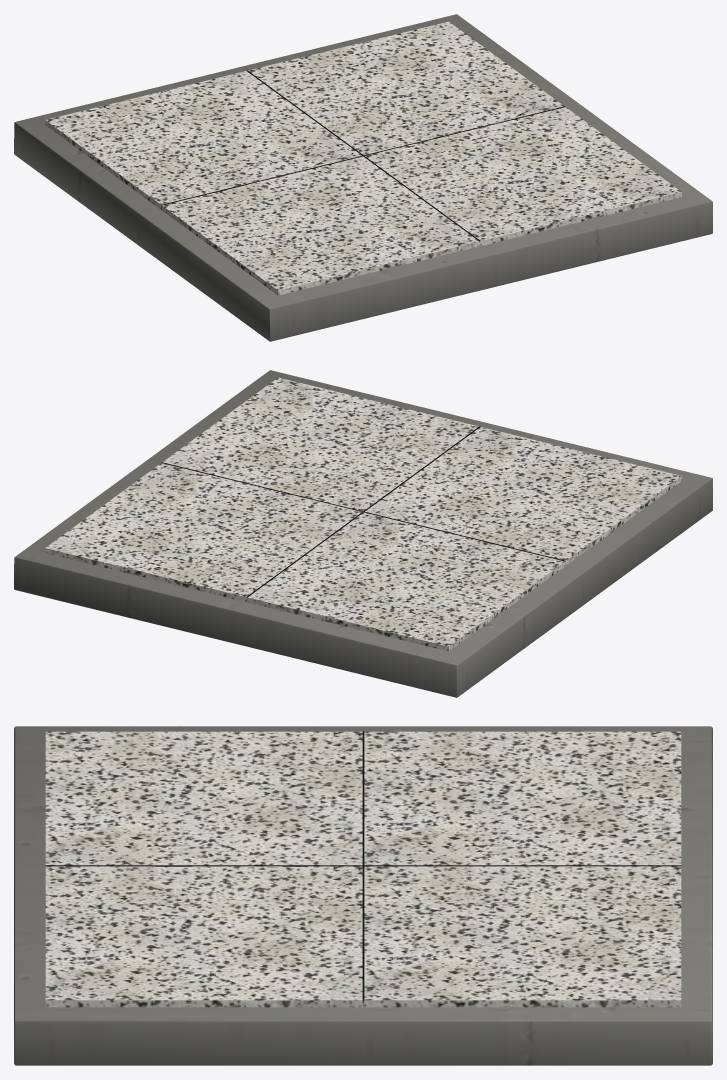
Rendered from PIS-OUT-001_lod1.glb.
3 views of the same model, one above another, from view 1: azimuth 30°, elevation 25°; view 2: azimuth 150°, elevation 25°; view 3: azimuth 270°, elevation 25° (orthographic). The views are drawn at different scales.
Visible parts, largest first — view 1: PIS-OUT-001_granilite, PIS-OUT-001_laje, PIS-OUT-001_juntaX; view 2: PIS-OUT-001_granilite, PIS-OUT-001_laje, PIS-OUT-001_juntaX; view 3: PIS-OUT-001_granilite, PIS-OUT-001_laje, PIS-OUT-001_juntaY, PIS-OUT-001_juntaX.
Part boxes in pixels (x1,y1,x2,y2): PIS-OUT-001_granilite: [45, 21, 681, 295]; PIS-OUT-001_laje: [14, 14, 712, 341]; PIS-OUT-001_juntaX: [161, 106, 565, 209]; PIS-OUT-001_granilite: [45, 377, 681, 651]; PIS-OUT-001_laje: [14, 370, 712, 697]; PIS-OUT-001_juntaX: [161, 462, 565, 561]; PIS-OUT-001_granilite: [45, 731, 681, 1007]; PIS-OUT-001_laje: [14, 726, 712, 1065]; PIS-OUT-001_juntaY: [45, 865, 681, 866]; PIS-OUT-001_juntaX: [362, 731, 364, 1006].
Bounding box in the file's own units: 1.1 × 0.0925 × 1.1.
3 materials, 3 textured.
